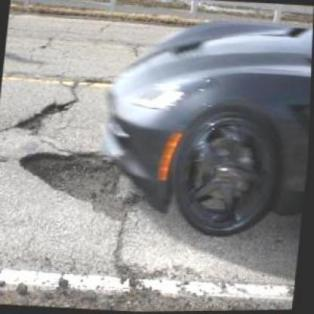Hueco: (16, 145, 149, 223), (16, 96, 72, 135)
